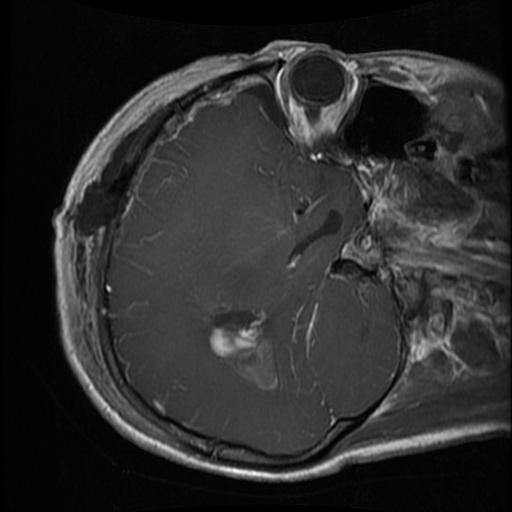glioma: (206, 312, 280, 393)
